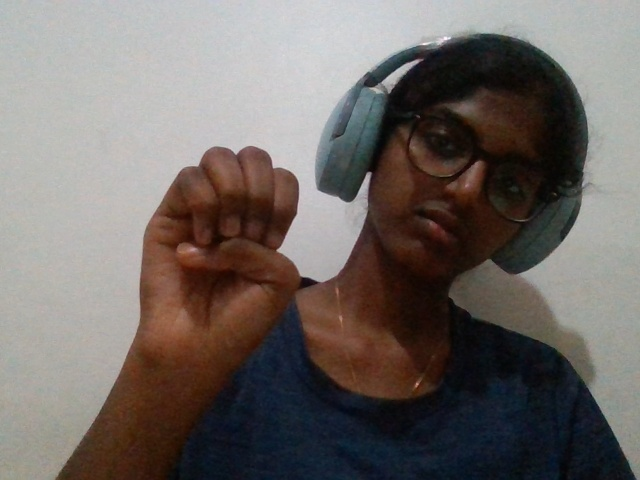E: (92, 115, 315, 429)
